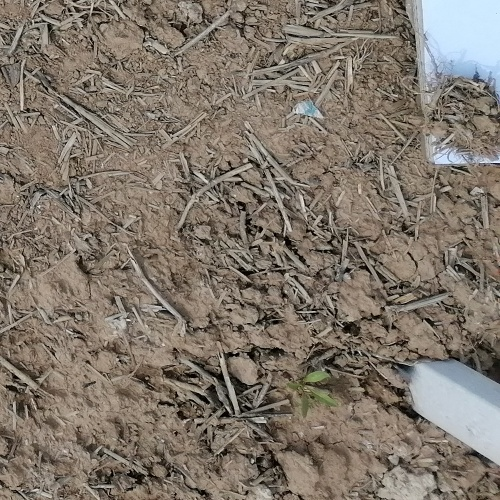beet: (283, 370, 339, 424)
